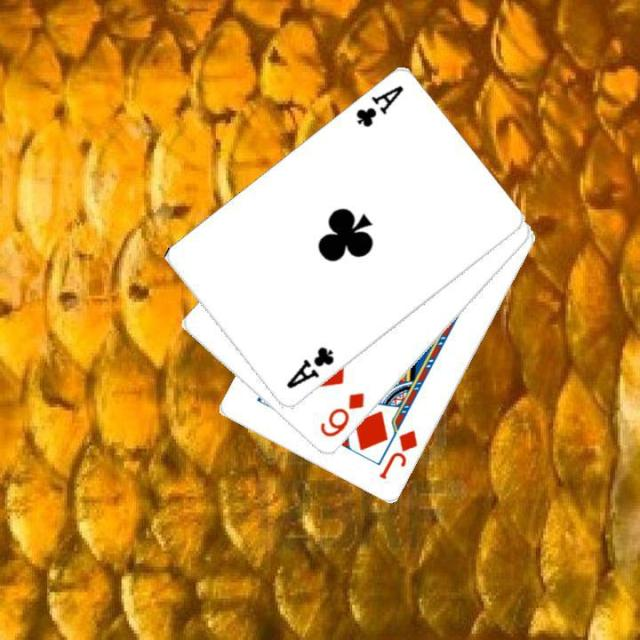6D: (316, 388, 366, 440)
AC: (282, 343, 336, 391), (351, 82, 405, 130)
JD: (375, 426, 421, 482)
